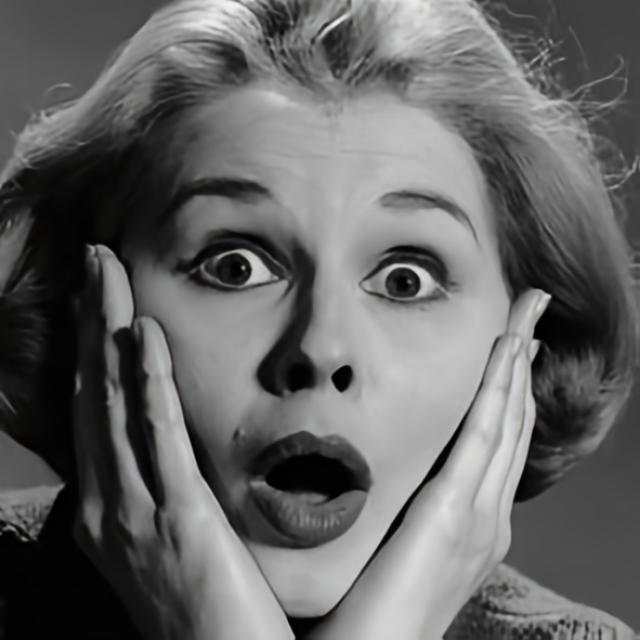fear: (102, 62, 526, 612)
